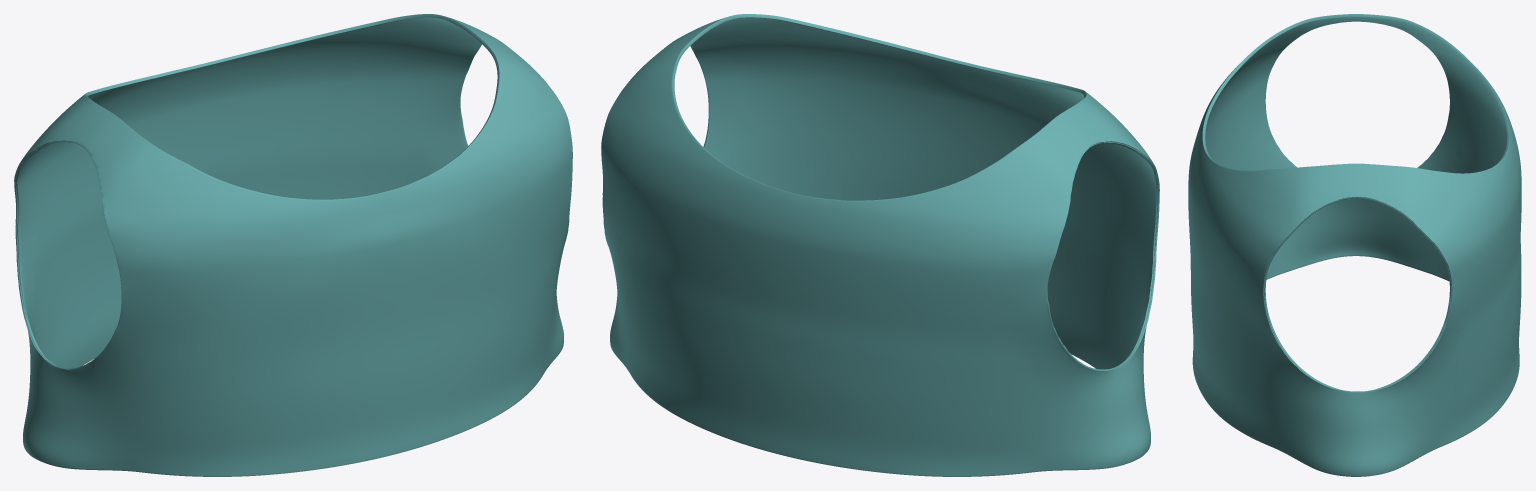
File: Masculine-tank-top.glb
The picture shows the model from 3 angles, left to right: view 1: azimuth 30°, elevation 25°; view 2: azimuth 150°, elevation 25°; view 3: azimuth 270°, elevation 25°; orthographic projection. The views are drawn at different scales.
Parts seen in each view (by area): view 1: Clothing / Tank189, Tank / sewn armhole203 1 export; view 2: Clothing / Tank189, Tank / sewn armhole203 1 export; view 3: Clothing / Tank189, Tank / sewn armhole203 0 export.
Boxes of the visible parts, x1,y1,x2,y2 form: Clothing / Tank189: (14,14,572,476); Tank / sewn armhole203 1 export: (15,141,121,369); Clothing / Tank189: (601,14,1159,476); Tank / sewn armhole203 1 export: (1047,142,1158,370); Clothing / Tank189: (1188,14,1521,476); Tank / sewn armhole203 0 export: (1264,197,1451,391).
Size of the model in its own units: 0.6885 by 0.4006 by 0.4369.
